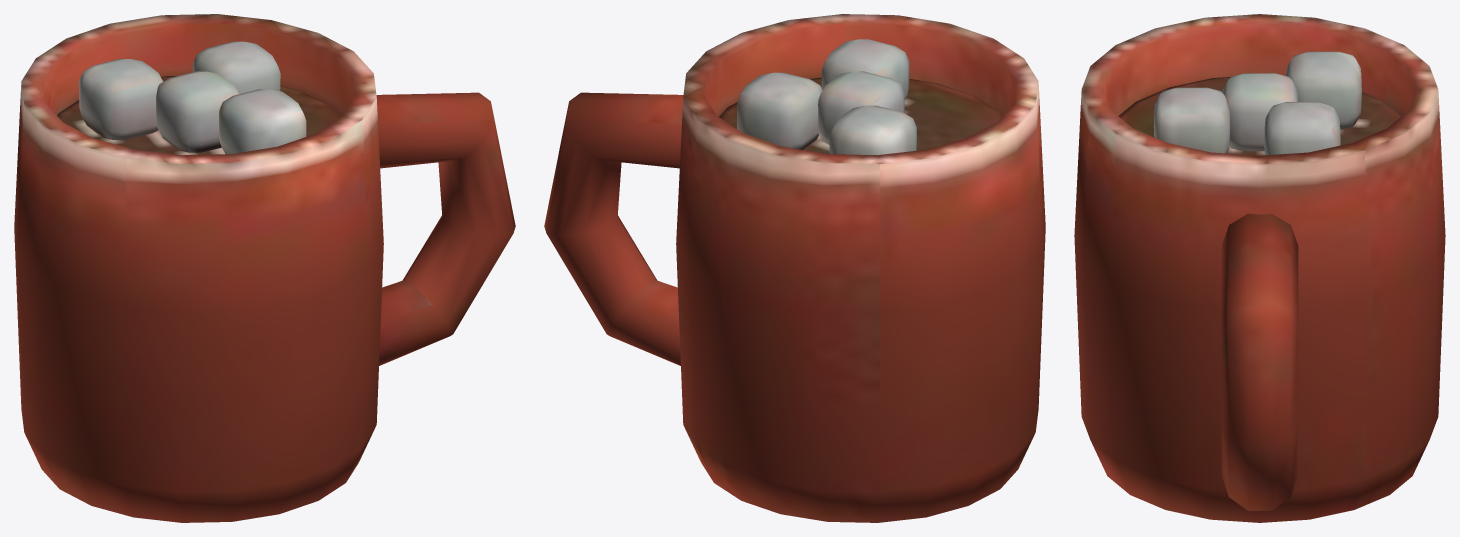
The model's file is mug_cocoa.glb.
The picture shows the model from 3 angles, left to right: view 1: azimuth 30°, elevation 25°; view 2: azimuth 150°, elevation 25°; view 3: azimuth 270°, elevation 25°; orthographic projection.
Visible parts, largest first — view 1: prop_mug_cocoa_felt; view 2: prop_mug_cocoa_felt; view 3: prop_mug_cocoa_felt.
Part boxes in pixels (x1,y1,x2,y2): prop_mug_cocoa_felt: (14,14,515,522); prop_mug_cocoa_felt: (544,14,1045,522); prop_mug_cocoa_felt: (1074,14,1445,522).
Size of the model in its own units: 0.192 by 0.1455 by 0.131.
1 material, 1 textured.
